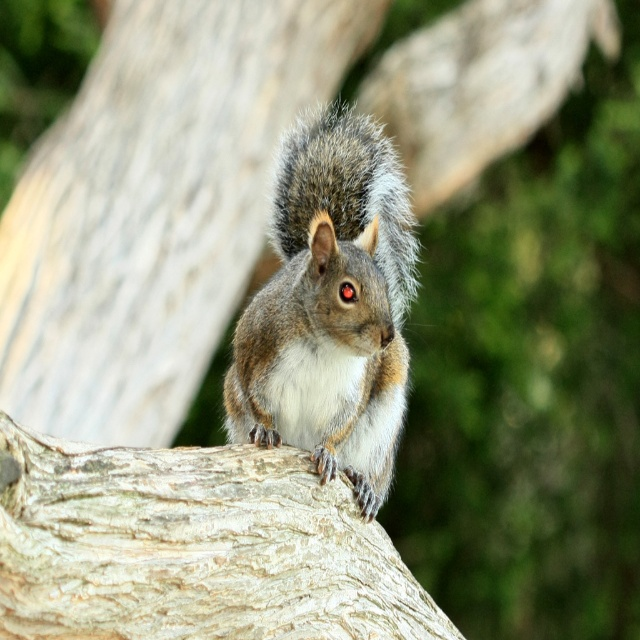Squirrel: (208, 90, 437, 526)
